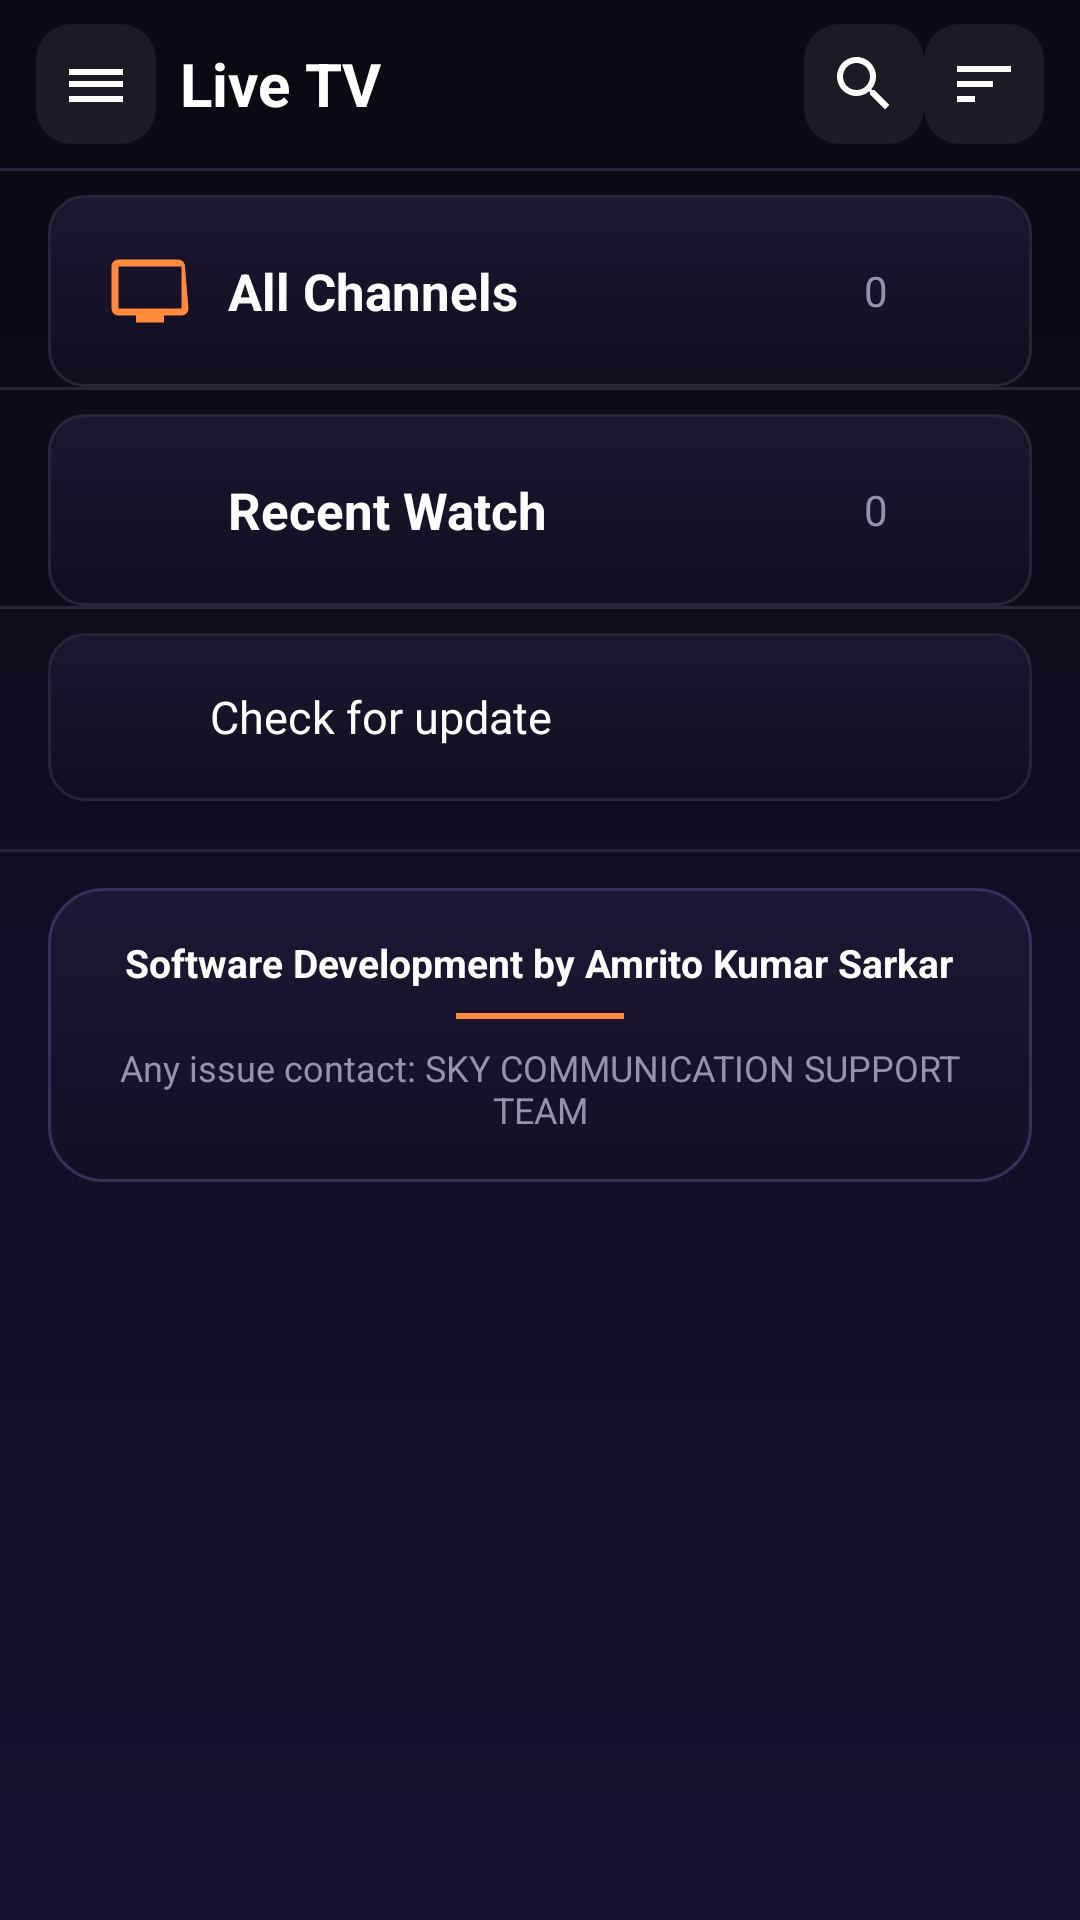

Named icons in this screenshot (1080×1920) and their bounding boxes, rect(x1, y1, x2, y2):
Menu: rect(69, 69, 123, 102)
Search: rect(804, 24, 924, 144)
Sort: rect(924, 24, 1044, 144)
